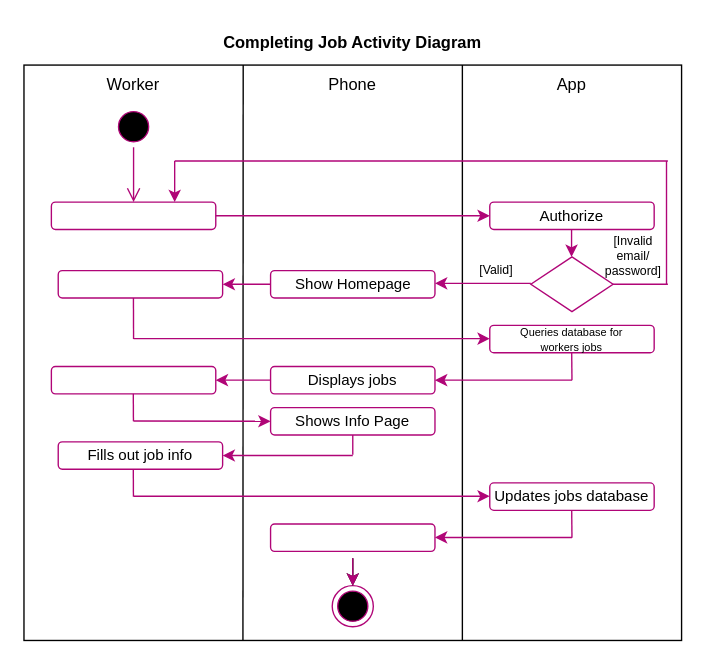
Some shapes in this 706 by 666 pixel diagram are drawn without their labels. Each missing label, with the centre of its shape:
Display confirmation: [352,537]
Log in: [133,215]
Selects Current Job: [133,379]
View Jobs: [140,283]
